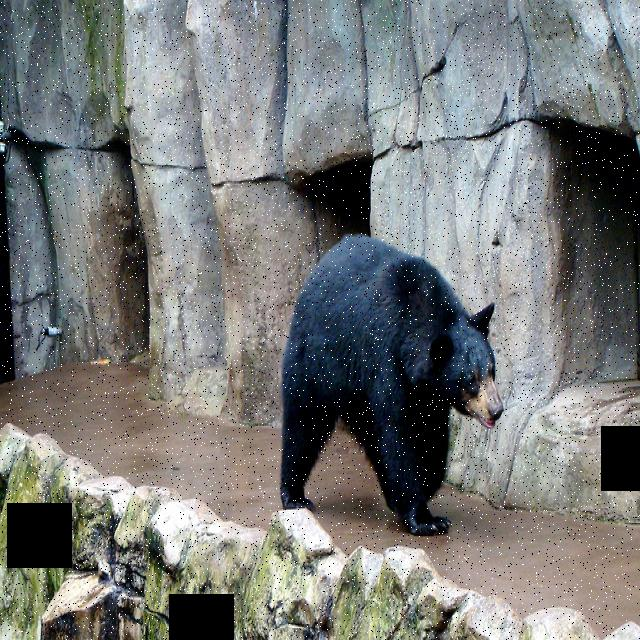Bear: (277, 225, 507, 550)
